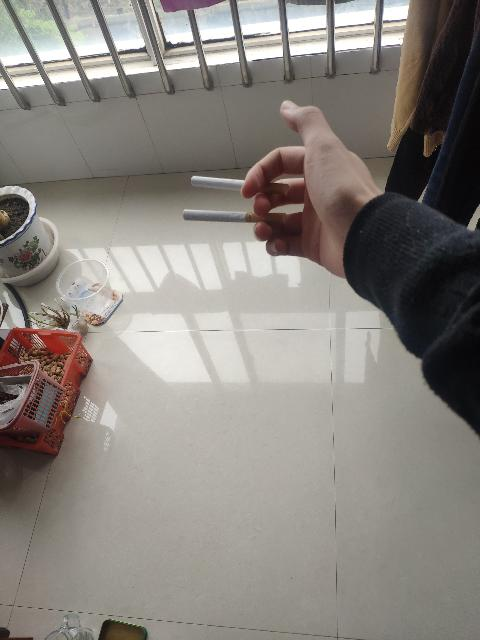Cigarette: (183, 208, 289, 226), (190, 176, 290, 194)
